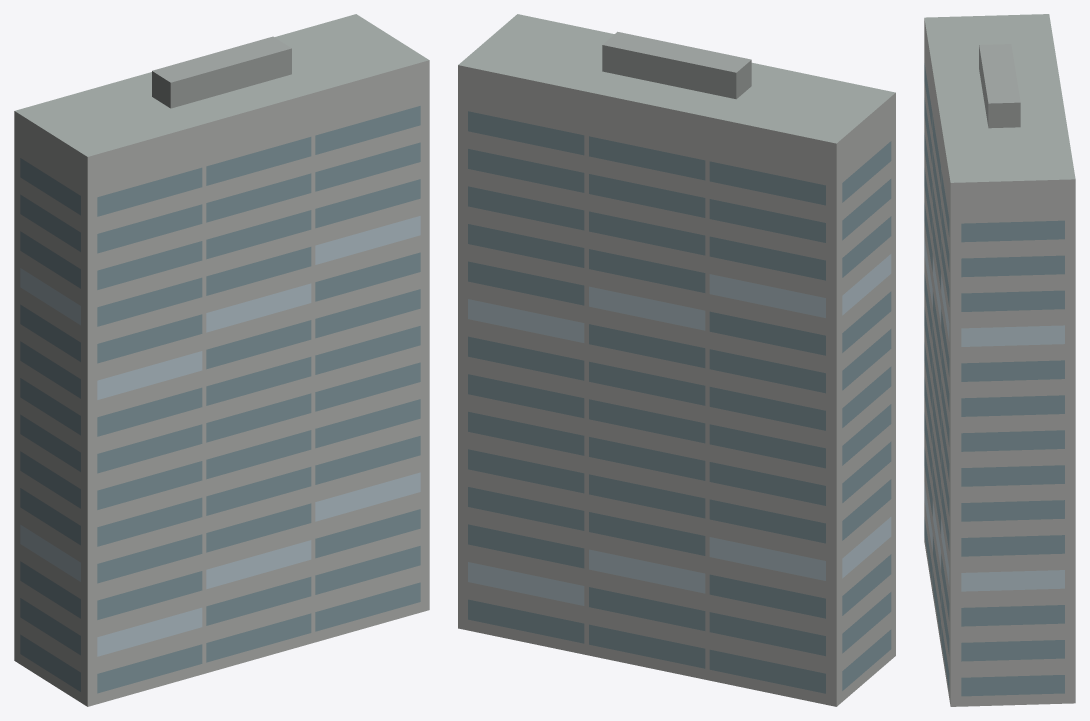
Rendered from fallback-godeok-raemian-hillstate-102.glb.
The picture shows the model from 3 angles, left to right: view 1: azimuth 30°, elevation 25°; view 2: azimuth 150°, elevation 25°; view 3: azimuth 270°, elevation 25°; orthographic projection. The views are drawn at different scales.
Parts seen in each view (by area): view 1: fallback-godeok-raemian-hillstate-102; view 2: fallback-godeok-raemian-hillstate-102; view 3: fallback-godeok-raemian-hillstate-102.
Boxes of the visible parts, x1,y1,x2,y2 form: fallback-godeok-raemian-hillstate-102: (14, 14, 429, 706); fallback-godeok-raemian-hillstate-102: (458, 14, 895, 706); fallback-godeok-raemian-hillstate-102: (924, 14, 1075, 706).
Bounding box in the file's own units: 31.03 × 47 × 11.74.
